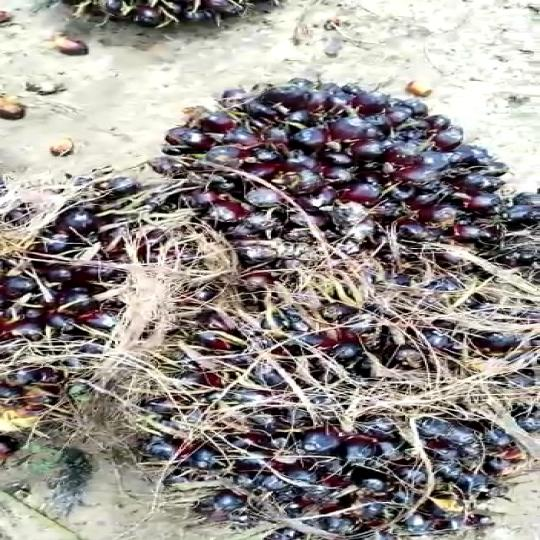mentah: (7, 80, 540, 535)
